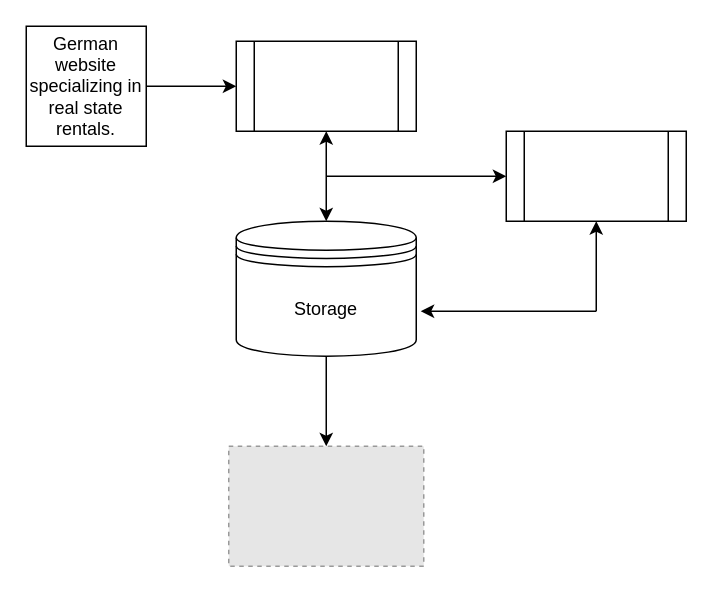
The diagram is 713 pixels wide and 593 high, and some of its shapes have lost their labels. Grey dashed boxes stand in for pictures. Each missing label, with the centre of its shape:
Data Processing: (x=595, y=175)
Web Scraping: (x=325, y=85)
